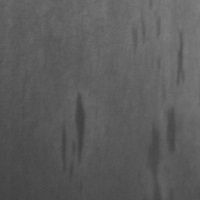inclusion: (55, 89, 90, 179), (139, 114, 165, 199), (127, 7, 165, 58), (171, 24, 193, 90), (162, 104, 184, 157)
